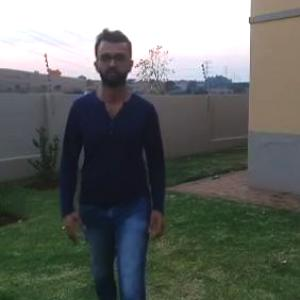follow: (57, 20, 167, 299)
